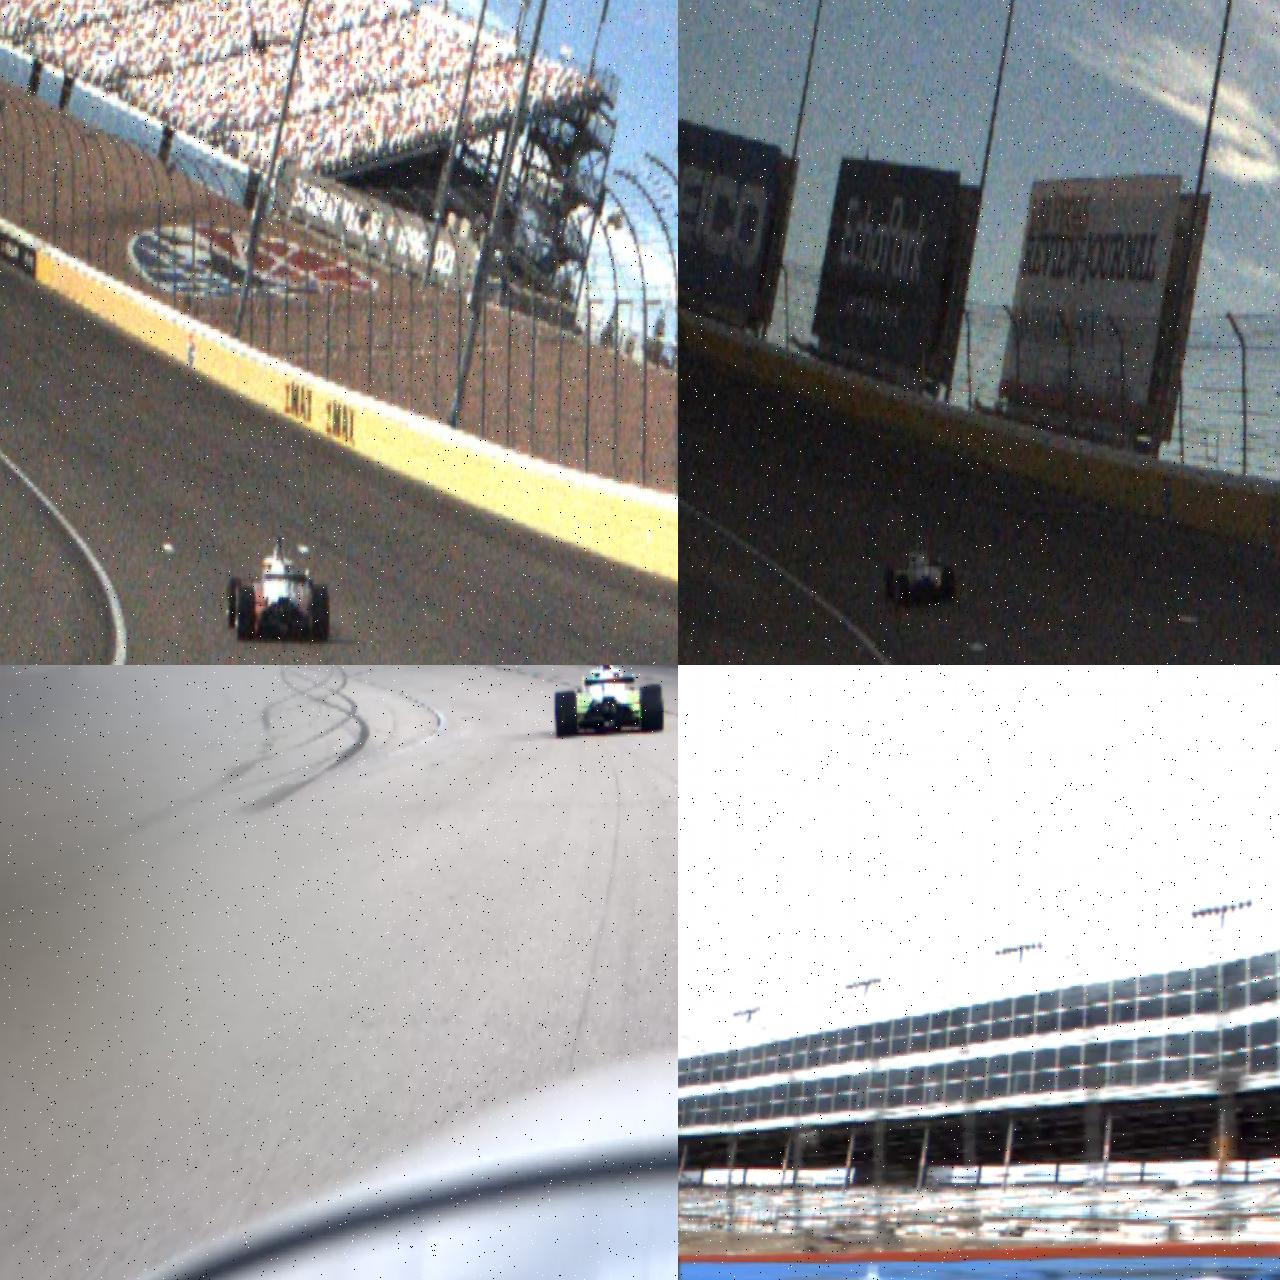AV: (225, 531, 331, 644), (554, 665, 666, 740), (883, 527, 958, 612)
Wheel: (640, 685, 665, 734), (234, 586, 256, 642), (554, 692, 577, 738), (313, 585, 329, 644), (226, 578, 241, 631), (941, 568, 956, 611), (884, 568, 894, 610)
